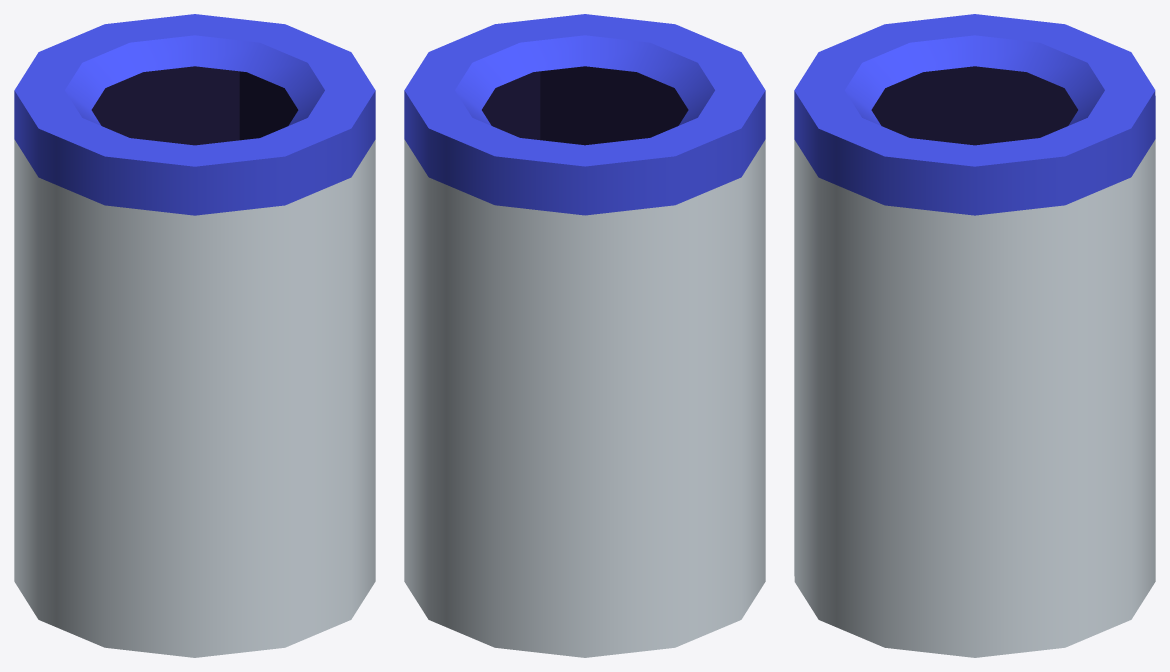
File: bin.fbx
The picture shows the model from 3 angles, left to right: view 1: azimuth 30°, elevation 25°; view 2: azimuth 150°, elevation 25°; view 3: azimuth 270°, elevation 25°; orthographic projection.
Parts seen in each view (by area): view 1: bin; view 2: bin; view 3: bin.
Boxes of the visible parts, box(x1,y1,x2,y2) form: bin: box(14, 14, 375, 657); bin: box(404, 14, 765, 657); bin: box(794, 14, 1155, 657).
Bounding box in the file's own units: 1.18 × 1.76 × 1.18.
